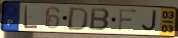6: (44, 6, 61, 31)
B: (89, 7, 112, 32)
D: (65, 6, 90, 32)
F: (117, 8, 138, 33)
J: (140, 10, 158, 33)
L: (23, 5, 39, 30)
